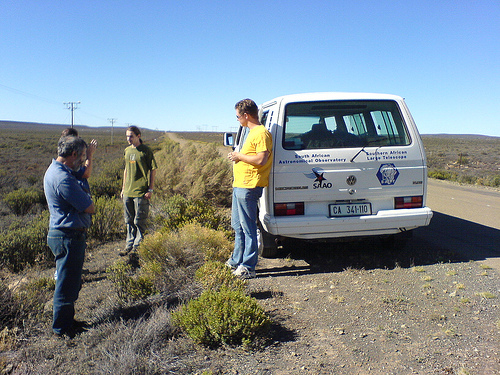without_mask: (233, 104, 258, 129), (123, 128, 144, 146)
